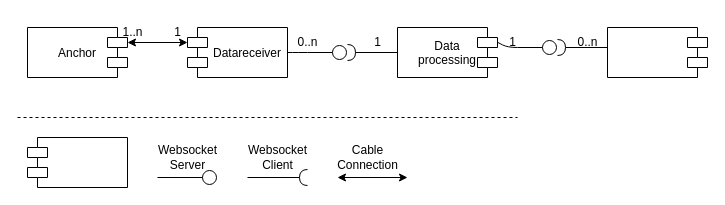
This 725x205 diagram has some shape labels left out. Each missing label, with the centre of its shape:
"Component" belongs at pixel 77 162.
"UI" belongs at pixel 657 52.
